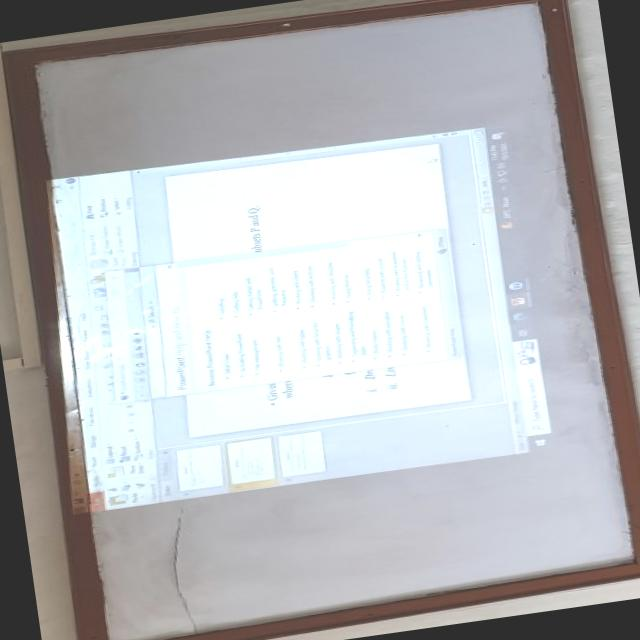Slide: (51, 124, 569, 513)
White-board: (18, 0, 640, 640)
